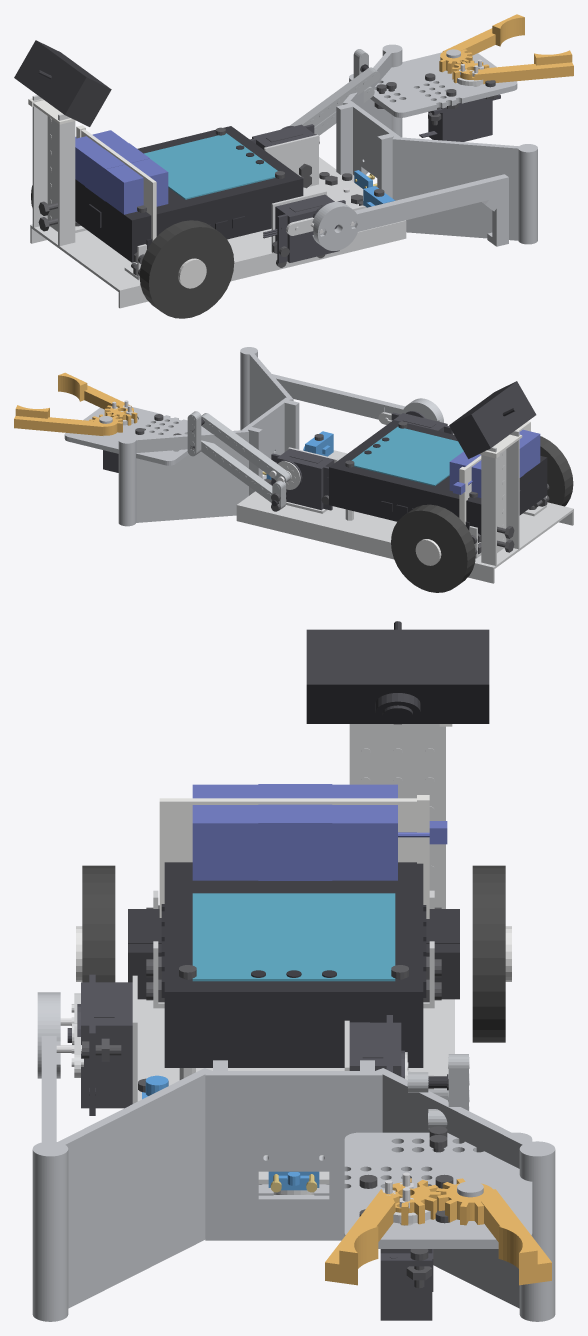
Rendered from robot_b.glb.
3 views of the same model, one above another, from view 1: azimuth 30°, elevation 25°; view 2: azimuth 150°, elevation 25°; view 3: azimuth 270°, elevation 25° (orthographic). The views are drawn at different scales.
Visible parts, largest first — view 1: 06.1|Pocket plow (print 3), 03.2|Wombat, 02.5|Solarbotics Wheel, 07.4|Cup hook (print 4), 03.2|Wombat (screen), 01.1|Chassis, 08.1|Channel 3 x 8, 03.3|Wombat Battery, 05.1|Geared claw (print 2), 08.2|Black Camera, 07.2|Servo, 05.2|Servo (+13 smaller); view 2: 06.1|Pocket plow (print 3), 03.2|Wombat, 02.4|Solarbotics Wheel, 01.1|Chassis, 03.2|Wombat (screen), 08.1|Channel 3 x 8, 08.2|Black Camera, 05.1|Geared claw (print 2), 07.4|Cup hook (print 4), 01.1|Chassis (flange).001, 04.2|Servo, 05.1|Geared claw (print 2) (finger L) (+12 smaller); view 3: 06.1|Pocket plow (print 3), 03.2|Wombat, 03.3|Wombat Battery, 03.2|Wombat (screen), 08.2|Black Camera, 05.1|Geared claw (print 2), 08.1|Channel 3 x 8, 07.2|Servo, 03.3|Zip tie, 02.4|Solarbotics Wheel, 01.1|Chassis, 05.1|Geared claw (print 2) (finger L) (+8 smaller).
Boxes of the visible parts, x1,y1,x2,y2 form: 06.1|Pocket plow (print 3): (336,44,537,244); 03.2|Wombat: (75,126,303,262); 02.5|Solarbotics Wheel: (139,220,234,318); 07.4|Cup hook (print 4): (312,174,508,250); 03.2|Wombat (screen): (144,133,277,199); 01.1|Chassis: (30,157,406,292); 08.1|Channel 3 x 8: (32,95,75,246); 03.3|Wombat Battery: (75,130,168,214); 05.1|Geared claw (print 2): (349,49,517,117); 08.2|Black Camera: (14,40,111,126); 07.2|Servo: (263,194,345,263); 05.2|Servo: (419,94,500,141); 06.1|Pocket plow (print 3): (118,347,299,526); 03.2|Wombat: (329,420,547,541); 02.4|Solarbotics Wheel: (391,504,475,592); 01.1|Chassis: (236,450,573,569); 03.2|Wombat (screen): (351,426,463,486); 08.1|Channel 3 x 8: (481,430,519,565); 08.2|Black Camera: (449,381,536,458); 05.1|Geared claw (print 2): (64,407,209,465); 07.4|Cup hook (print 4): (272,374,443,422); 01.1|Chassis (flange).001: (236,507,494,583); 04.2|Servo: (271,448,334,510); 05.1|Geared claw (print 2) (finger L): (14,405,122,435); 06.1|Pocket plow (print 3): (32,1060,555,1321); 03.2|Wombat: (161,862,426,1067); 03.3|Wombat Battery: (192,784,447,880); 03.2|Wombat (screen): (192,893,395,981); 08.2|Black Camera: (306,621,489,724); 05.1|Geared claw (print 2): (344,1132,532,1248); 08.1|Channel 3 x 8: (349,724,445,908); 07.2|Servo: (67,974,132,1115); 03.3|Zip tie: (159,795,429,918); 02.4|Solarbotics Wheel: (472,865,505,1042); 01.1|Chassis: (137,999,454,1184); 05.1|Geared claw (print 2) (finger L): (436,1178,551,1285).
Bounding box in the file's own units: 426 × 161 × 206.
